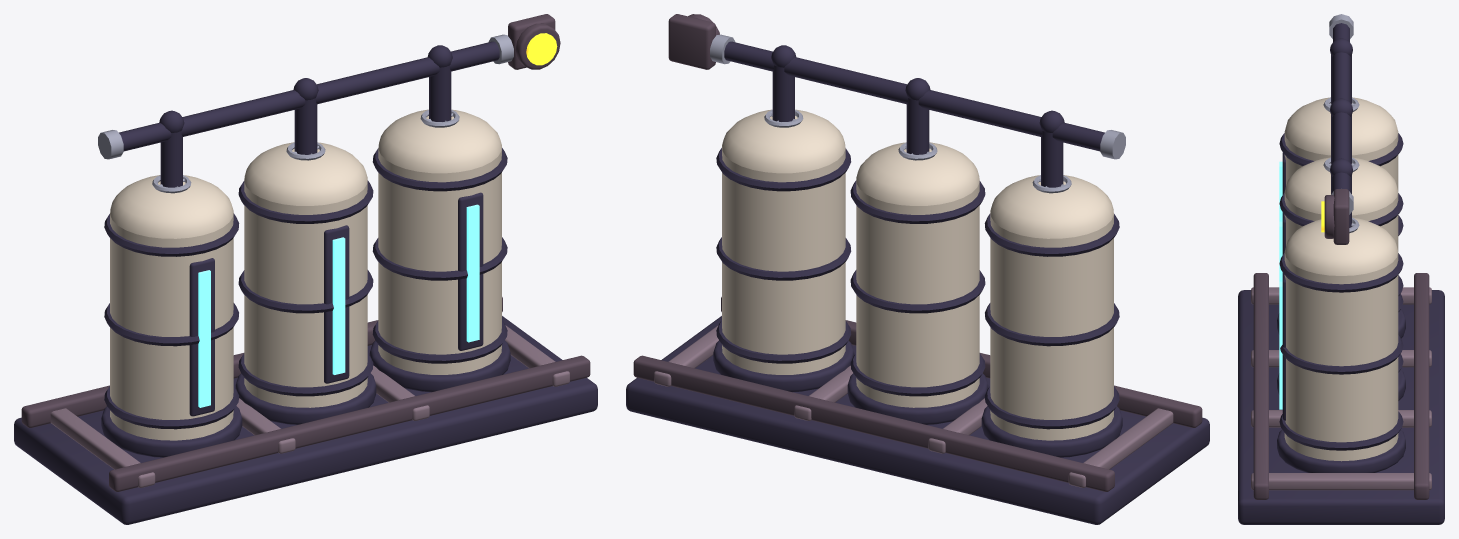
Rendered from tanks.glb.
3 views of the same model, side by side, from view 1: azimuth 30°, elevation 25°; view 2: azimuth 150°, elevation 25°; view 3: azimuth 270°, elevation 25° (orthographic). The views are drawn at different scales.
Visible parts, largest first — view 1: tanks; view 2: tanks; view 3: tanks.
Boxes of the visible parts, x1=… form: tanks: x1=14, y1=14, x2=597, y2=524; tanks: x1=626, y1=14, x2=1209, y2=524; tanks: x1=1238, y1=14, x2=1444, y2=524.
Bounding box in the file's own units: 3.97 × 2.77 × 1.6.
